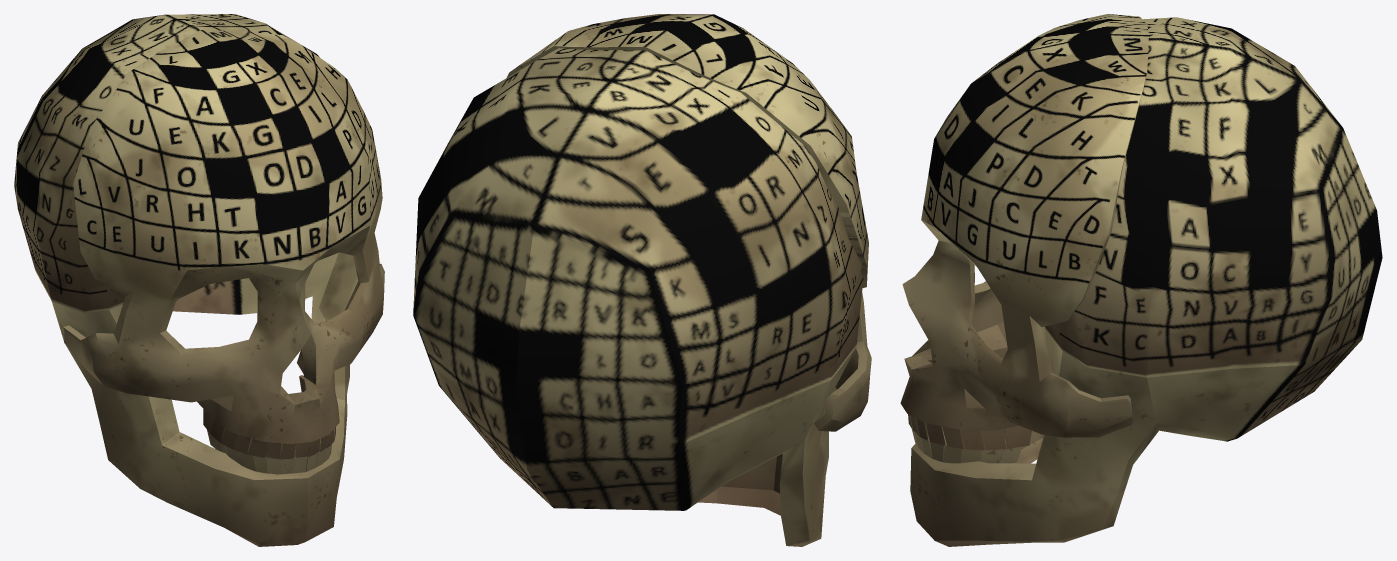
Rendered from skull_caroline.fbx.
The picture shows the model from 3 angles, left to right: view 1: azimuth 30°, elevation 25°; view 2: azimuth 150°, elevation 25°; view 3: azimuth 270°, elevation 25°; orthographic projection. The views are drawn at different scales.
Visible parts, largest first — view 1: skullS, skullLower, skullC, skullT, skullN; view 2: skullC, skullT, skullN, skullS, skullLower; view 3: skullS, skullN, skullLower, skullT, skullC.
Boxes of the visible parts, left/top/right/bottom form: skullS: left=63, top=30, right=384, bottom=459; skullLower: left=52, top=252, right=358, bottom=546; skullC: left=14, top=14, right=198, bottom=312; skullT: left=173, top=280, right=239, bottom=314; skullN: left=165, top=14, right=339, bottom=252; skullC: left=534, top=50, right=863, bottom=444; skullT: left=413, top=214, right=683, bottom=510; skullN: left=413, top=48, right=644, bottom=312; skullS: left=506, top=14, right=871, bottom=431; skullLower: left=679, top=348, right=855, bottom=546; skullS: left=900, top=14, right=1148, bottom=450; skullN: left=1044, top=38, right=1342, bottom=377; skullLower: left=910, top=328, right=1302, bottom=546; skullT: left=1237, top=128, right=1382, bottom=438; skullC: left=1143, top=17, right=1341, bottom=125.
Bounding box in the file's own units: 303 × 395 × 348.
Materials: 1 (1 with a texture image).
